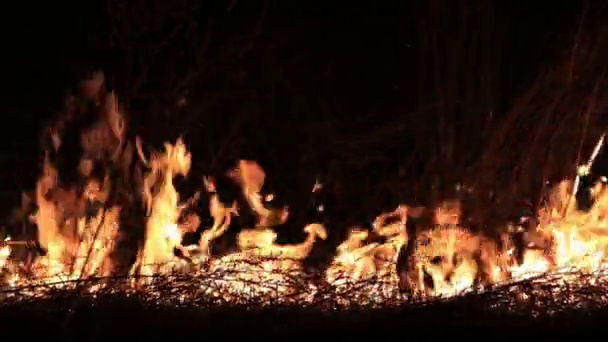fire: (129, 138, 327, 303), (326, 201, 516, 304), (1, 158, 117, 296), (515, 174, 608, 287)
